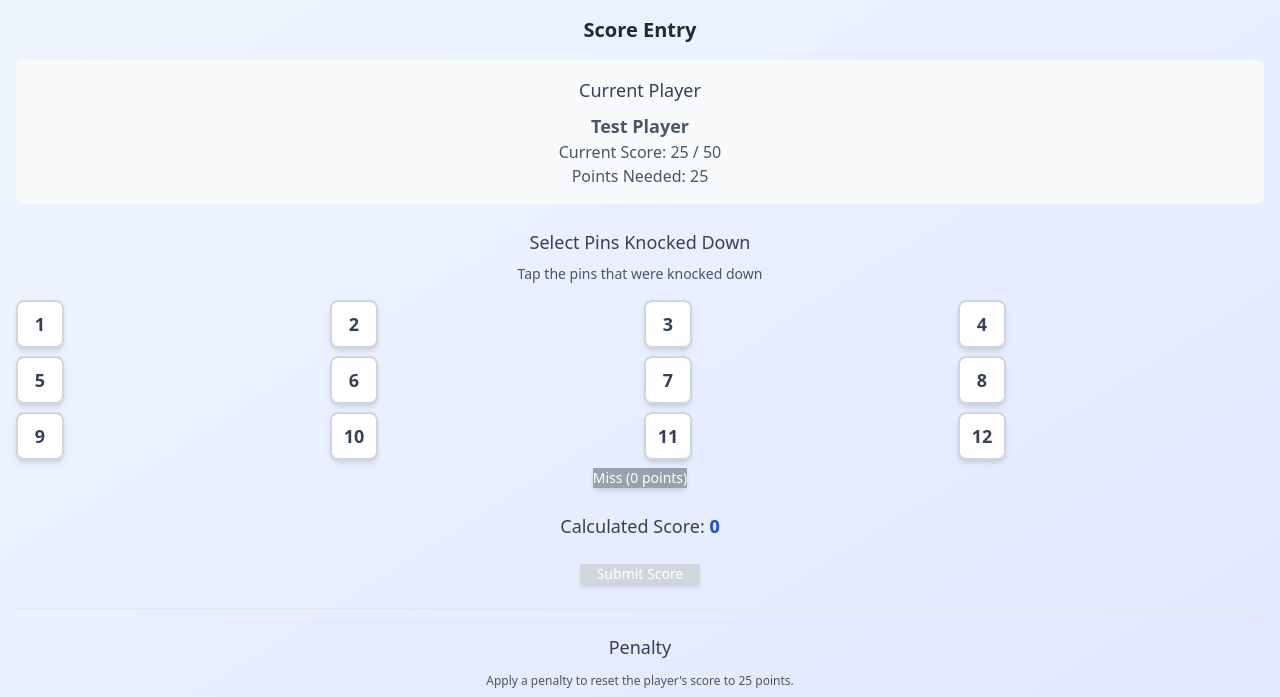
ScoreInput Component › Score Calculation › should calculate multiple pin score correctly
This screenshot has width=1280, height=697.
Click the button "3": (668, 324) [644,300,692,348]
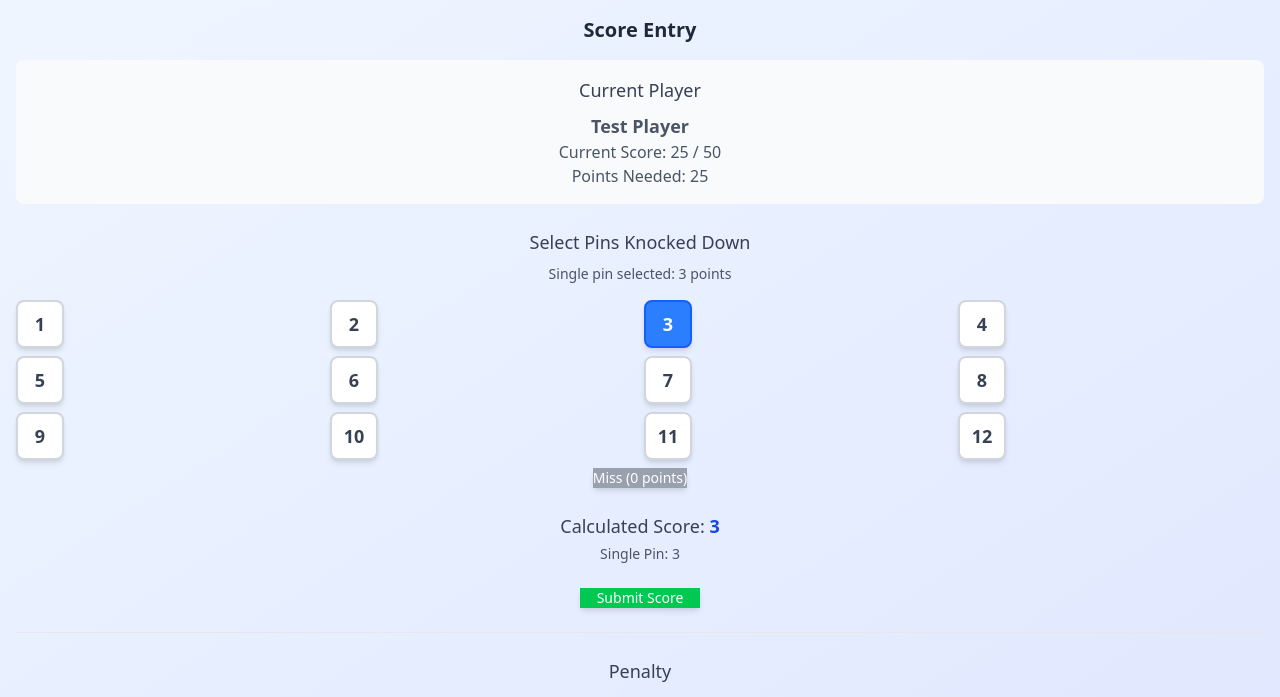
Click the button "6": (354, 380) [330,356,378,404]
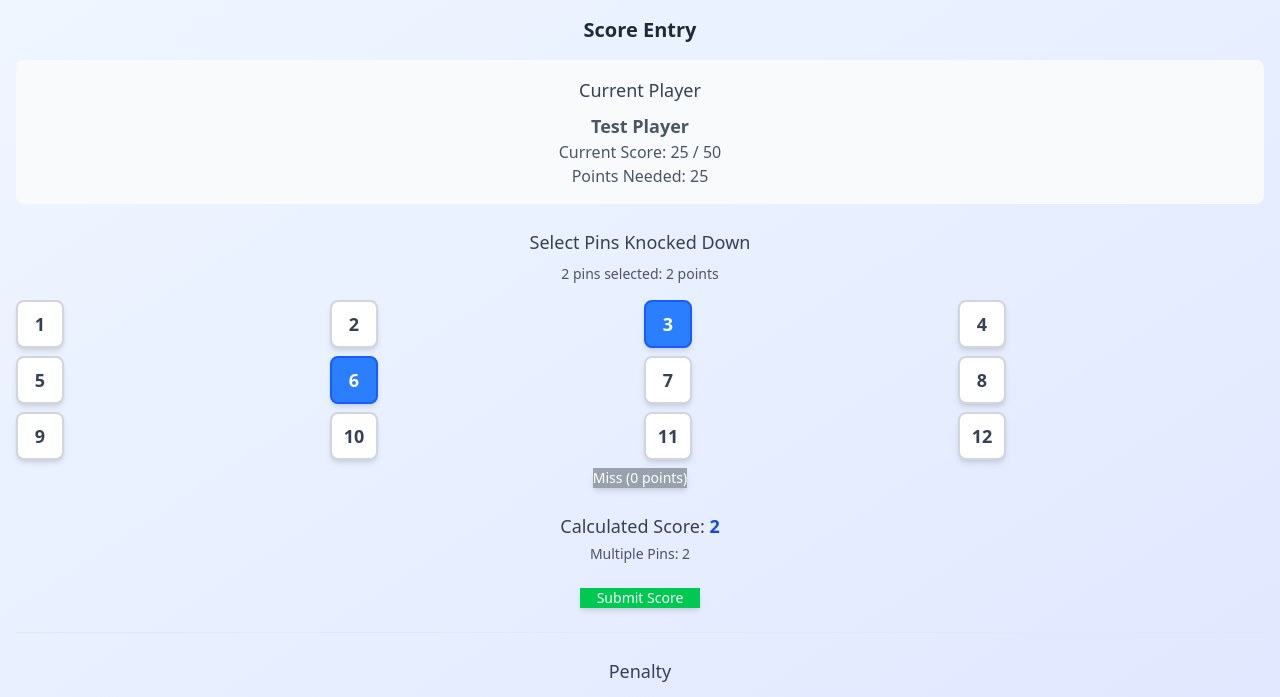
Click the button "9": (40, 436) [16,412,64,460]
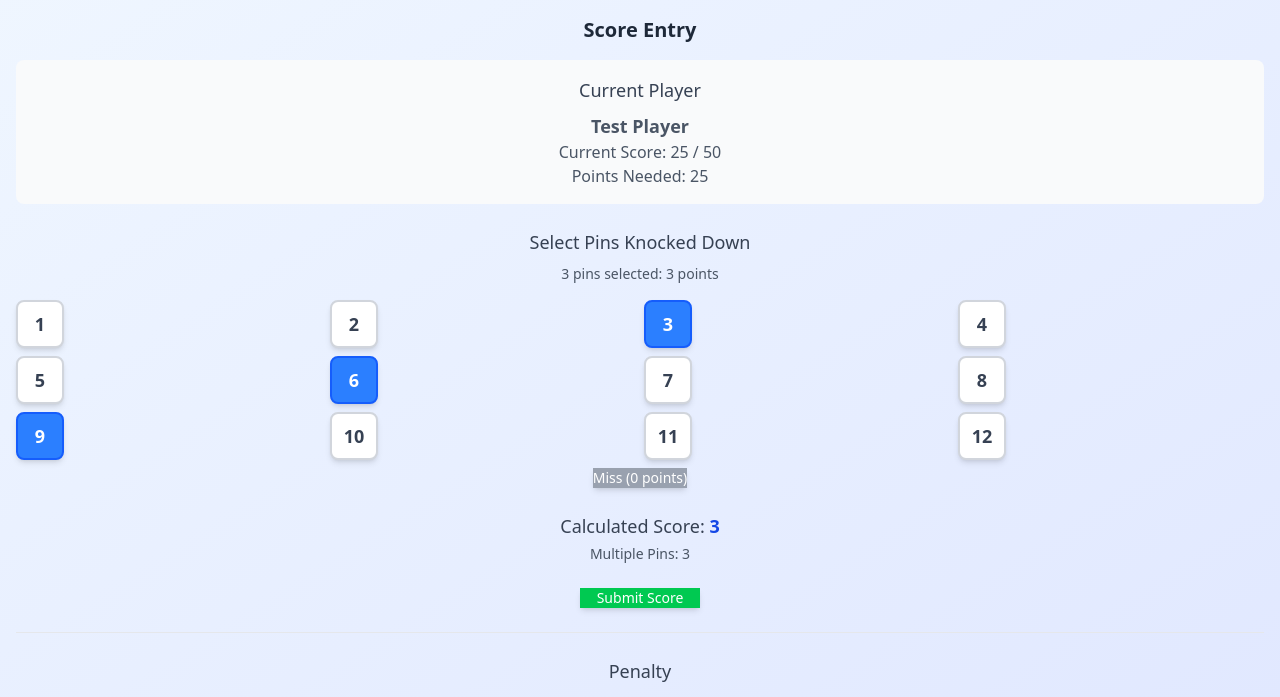
Expected: the text "Calculated Score: 3" is shown, [560,514,720,538]
Now the text "Multiple Pins: 3" is shown, box [590,544,690,563]
